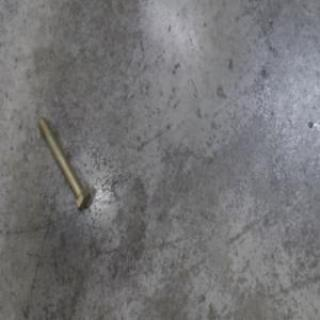Bolttrack_idkeyframe: (35, 110, 91, 212)
